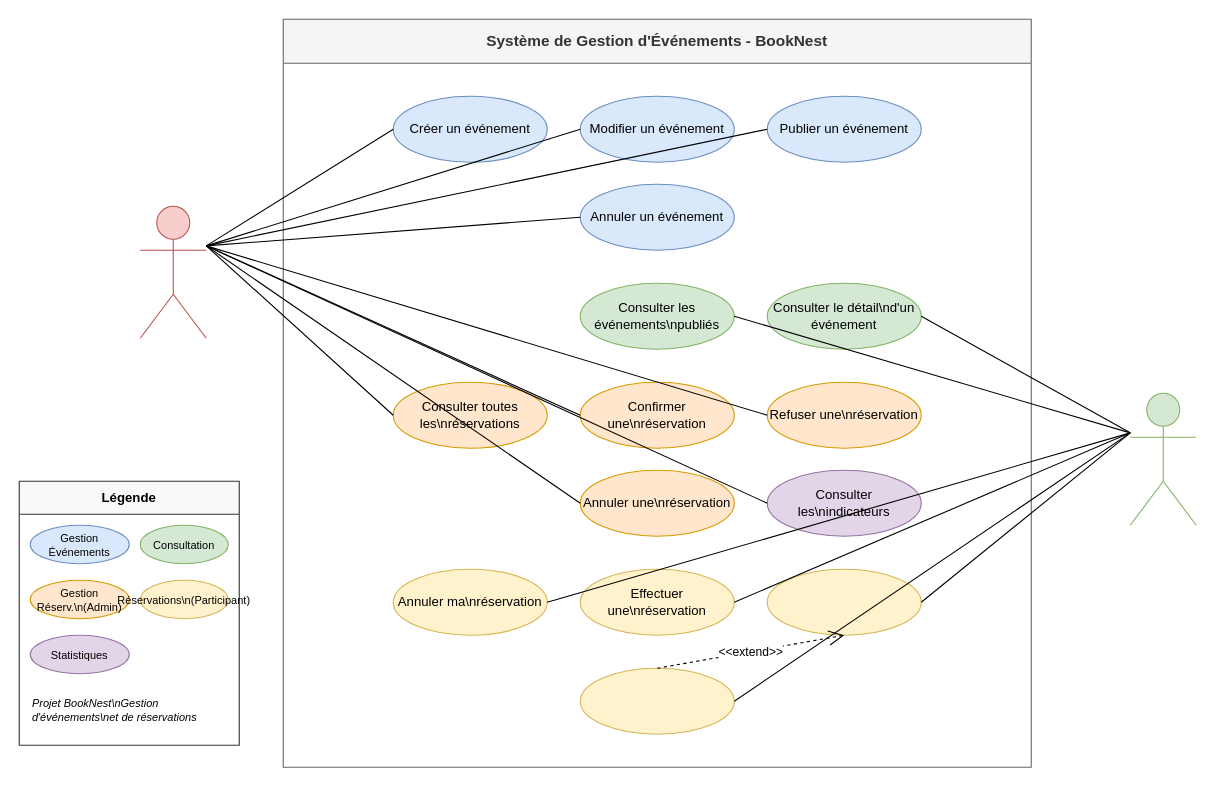
The diagram is 1216 pixels wide and 787 high, and some of its shapes have lost their labels. Here are the shapes that lost their labels. From the top down, the centre of each, then its label:
At (x=172, y=271): "Admin".
At (x=1162, y=458): "Participant".
At (x=843, y=601): "Consulter mes\nréservations".
At (x=656, y=700): "Télécharger le\nticket PDF".
